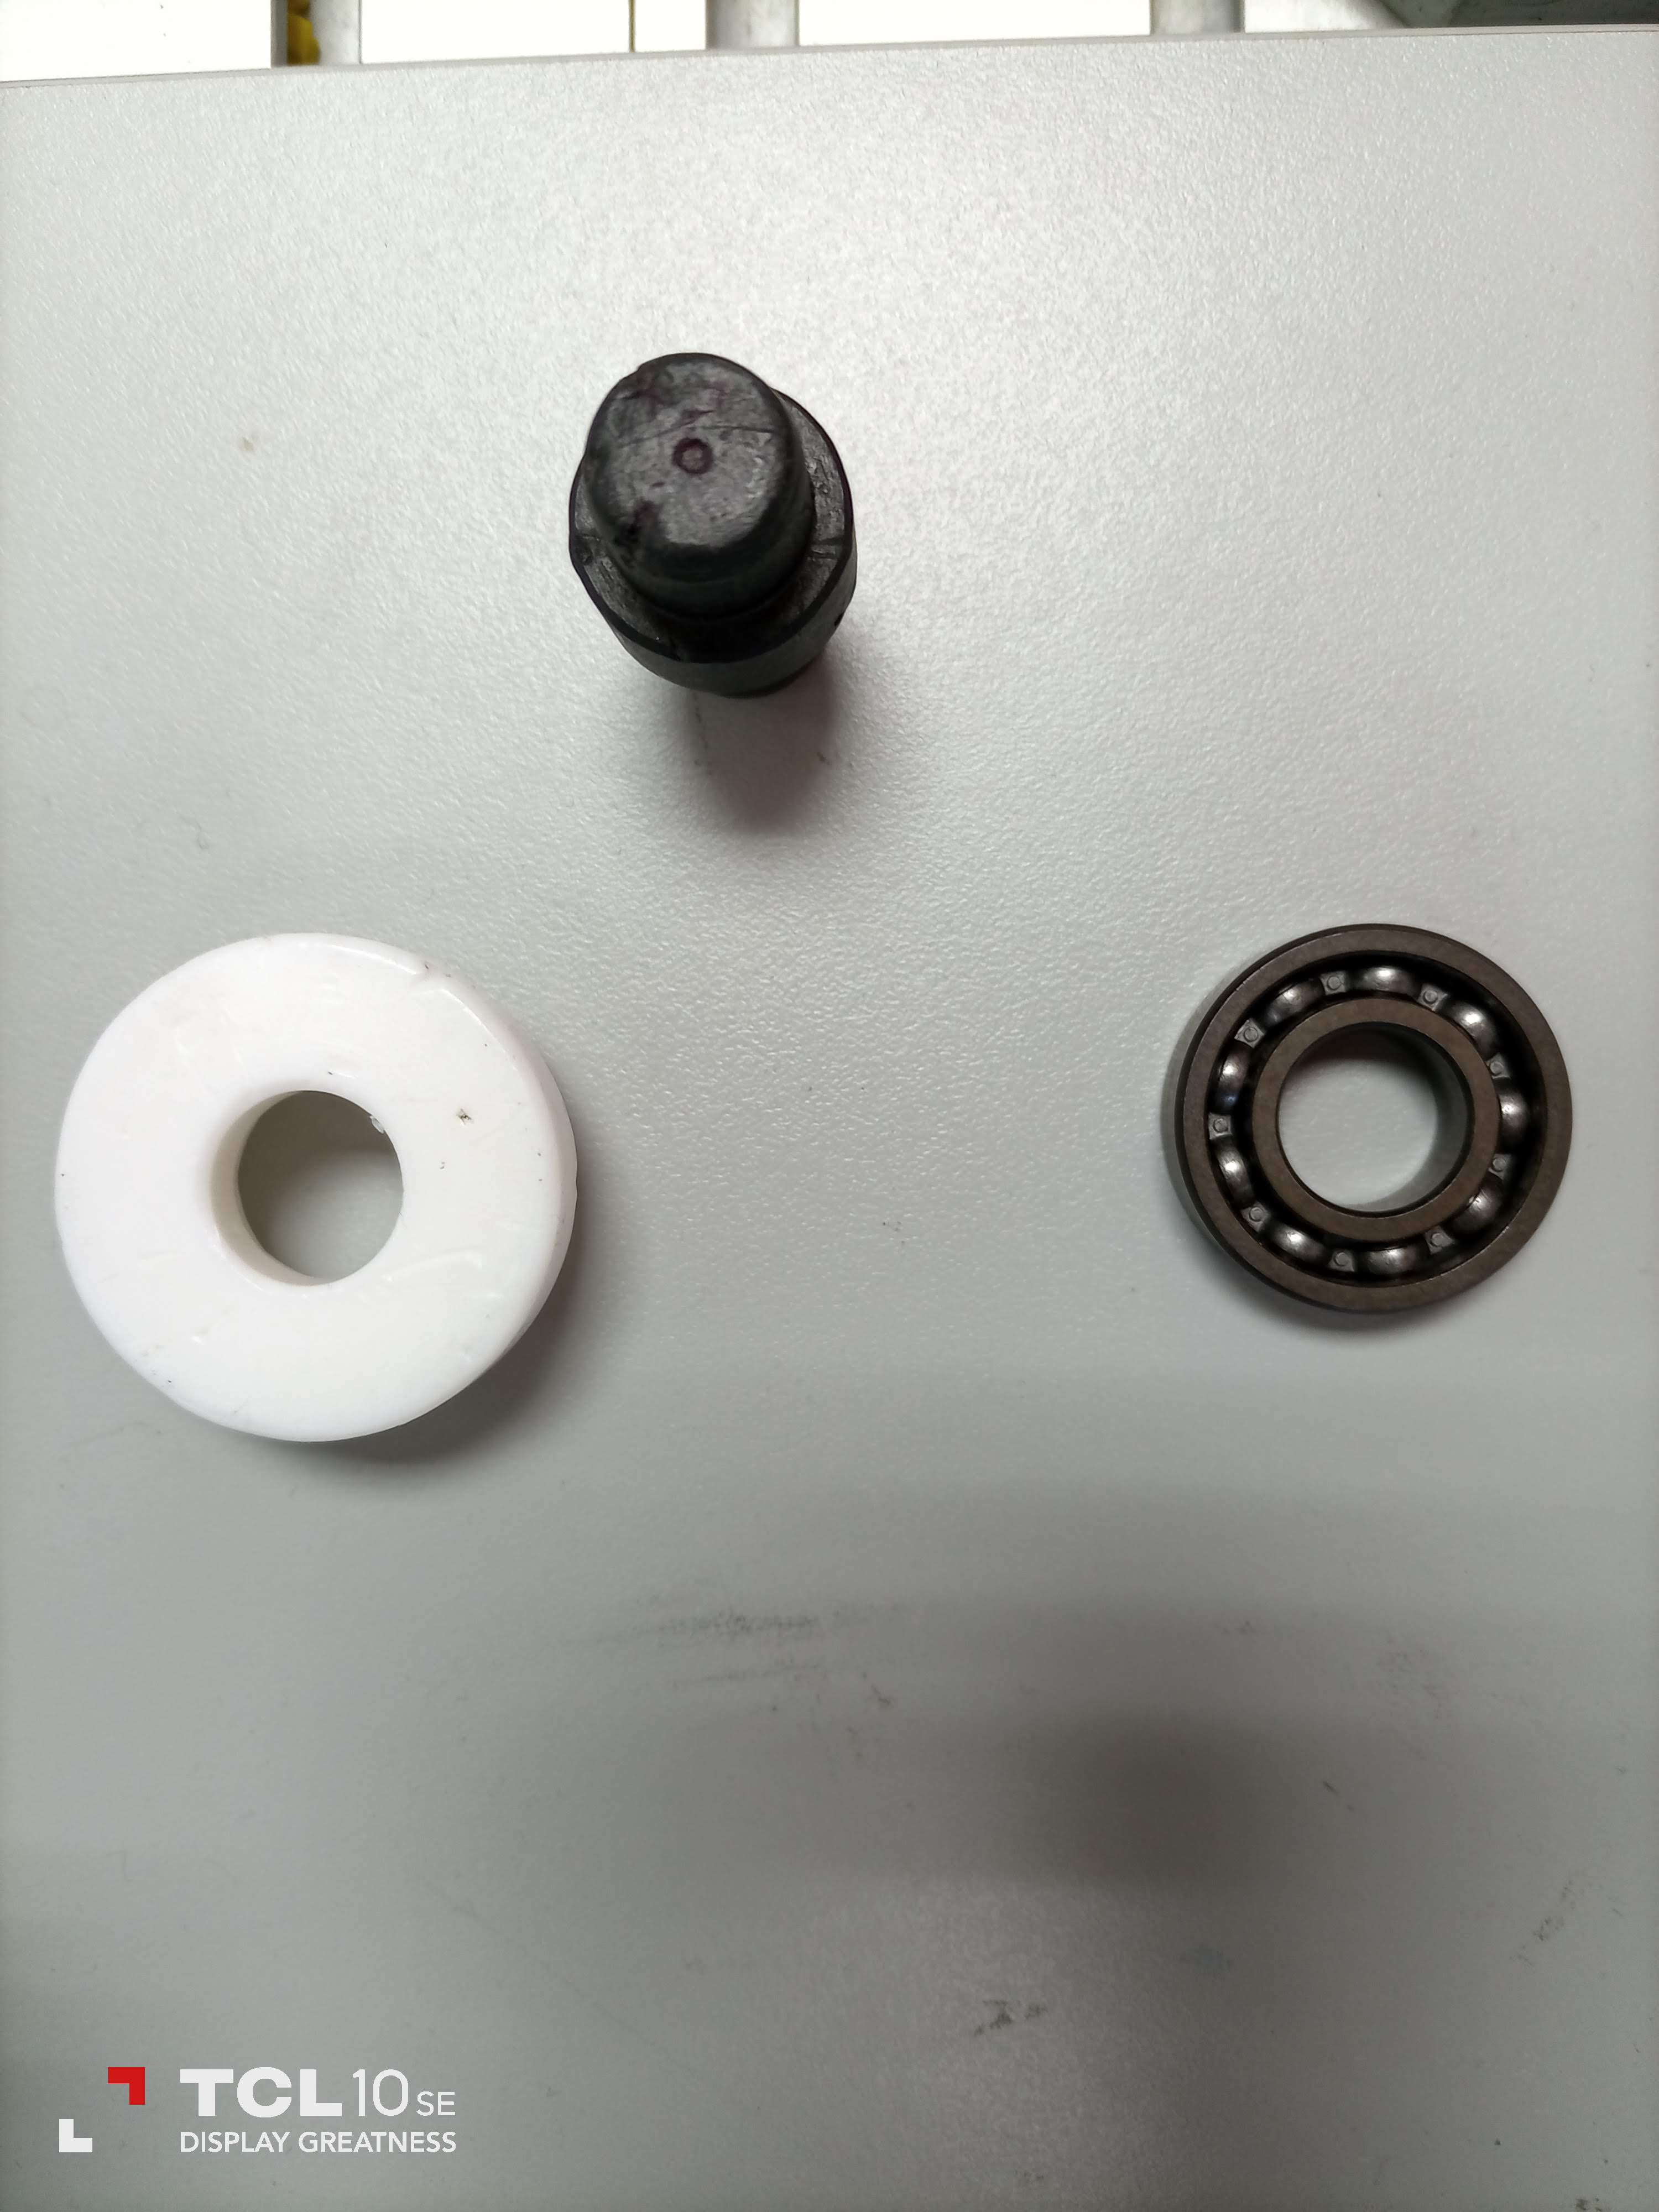Ardatza: (542, 343, 877, 704)
Roda: (1164, 911, 1574, 1308)
Tapa: (52, 932, 598, 1446)
